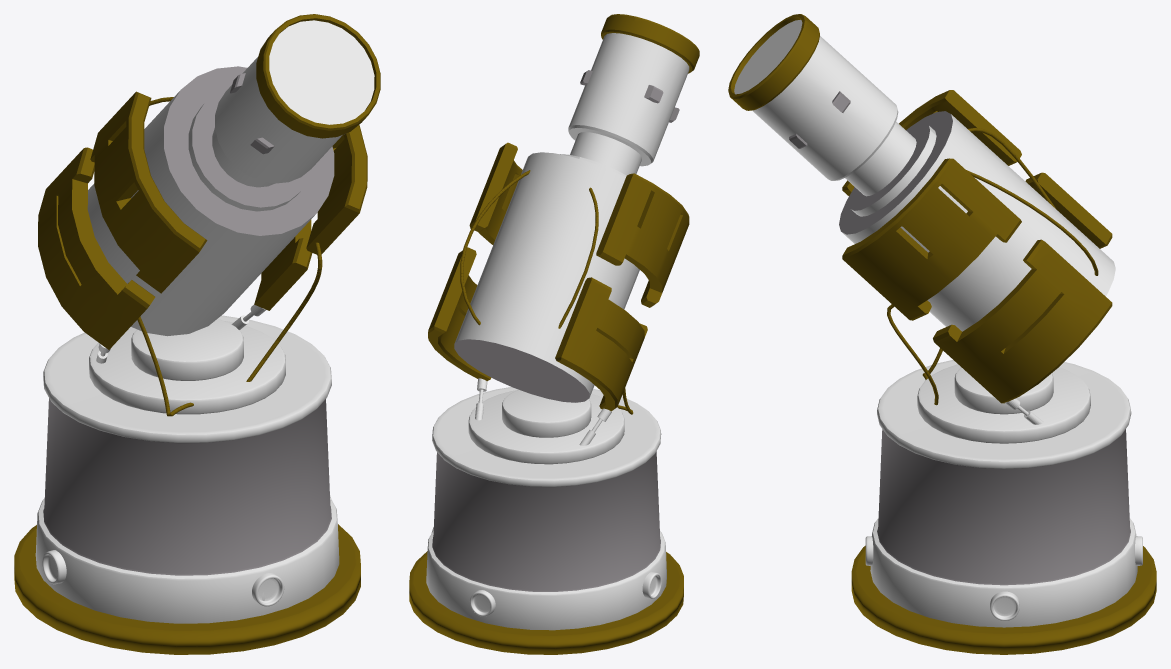
3 views of the same model, side by side, from view 1: azimuth 30°, elevation 25°; view 2: azimuth 150°, elevation 25°; view 3: azimuth 270°, elevation 25° (orthographic). The views are drawn at different scales.
Parts seen in each view (by area): view 1: Cylinder.016, Cylinder.015, Cylinder.017, Cylinder.021, Cylinder.011, Cylinder.020, Cylinder.012; view 2: Cylinder.015, Cylinder.016, Cylinder.017, Cylinder.018, Cylinder.014, Cylinder.019, Cylinder.023, Cylinder.020; view 3: Cylinder.015, Cylinder.016, Cylinder.017, Cylinder.022, Cylinder.018.
Part boxes in pixels (x1,y1,x2,y2): Cylinder.016: [35, 315, 339, 623]; Cylinder.015: [38, 14, 380, 349]; Cylinder.017: [14, 524, 360, 654]; Cylinder.021: [252, 573, 284, 606]; Cylinder.011: [246, 242, 322, 381]; Cylinder.020: [42, 550, 66, 584]; Cylinder.012: [137, 316, 193, 416]; Cylinder.015: [428, 14, 699, 411]; Cylinder.016: [426, 387, 666, 630]; Cylinder.017: [409, 551, 683, 654]; Cylinder.018: [460, 170, 530, 325]; Cylinder.014: [475, 378, 611, 445]; Cylinder.019: [558, 187, 598, 328]; Cylinder.023: [470, 590, 495, 616]; Cylinder.020: [642, 571, 661, 598]; Cylinder.015: [728, 14, 1115, 403]; Cylinder.016: [870, 360, 1137, 627]; Cylinder.017: [851, 545, 1156, 654]; Cylinder.022: [990, 591, 1019, 620]; Cylinder.018: [966, 170, 1098, 275].
Size of the model in its own units: 201 by 416 by 283.
